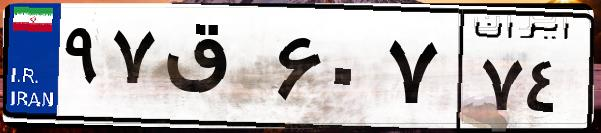0: (330, 28, 385, 110)
4: (525, 38, 570, 115)
6: (270, 28, 330, 110)
7: (385, 28, 445, 110), (475, 38, 525, 113), (110, 28, 158, 98)
9: (57, 26, 110, 100)
ق: (158, 20, 270, 120)
